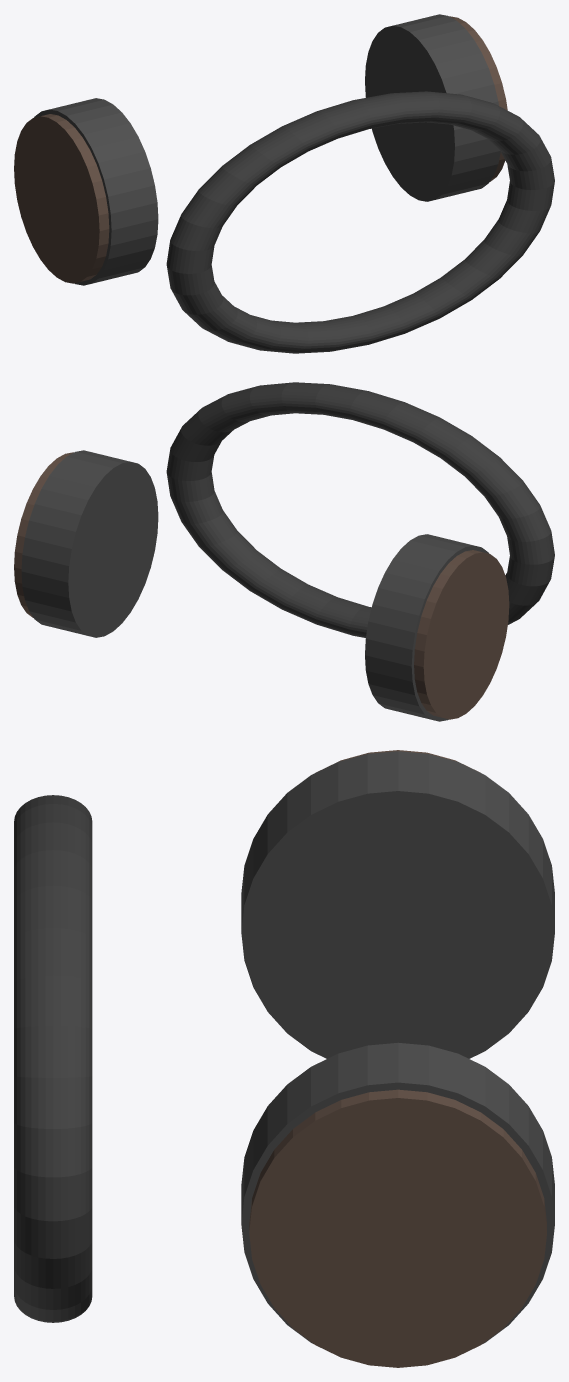
File: headphones.glb
The picture shows the model from 3 angles, top to bottom: view 1: azimuth 30°, elevation 25°; view 2: azimuth 150°, elevation 25°; view 3: azimuth 270°, elevation 25°; orthographic projection. The views are drawn at different scales.
Visible parts, largest first — view 1: world; view 2: world; view 3: world.
Part boxes in pixels (x1,y1,x2,y2): world: (14, 14, 554, 353); world: (14, 382, 554, 721); world: (14, 750, 554, 1367).
Size of the model in its own units: 0.525 by 0.294 by 0.345.
